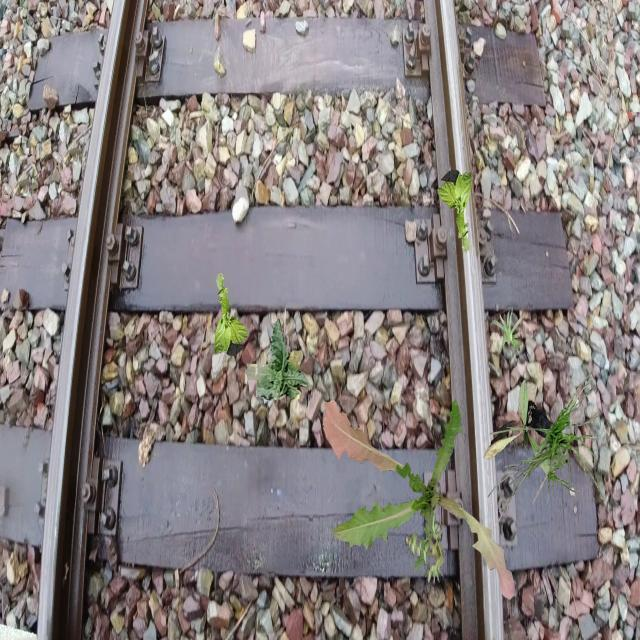Plant: (323, 398, 516, 600), (487, 365, 606, 528), (483, 379, 554, 478), (245, 318, 308, 401), (214, 273, 250, 356), (405, 513, 447, 584), (437, 170, 472, 254), (491, 307, 524, 353)
